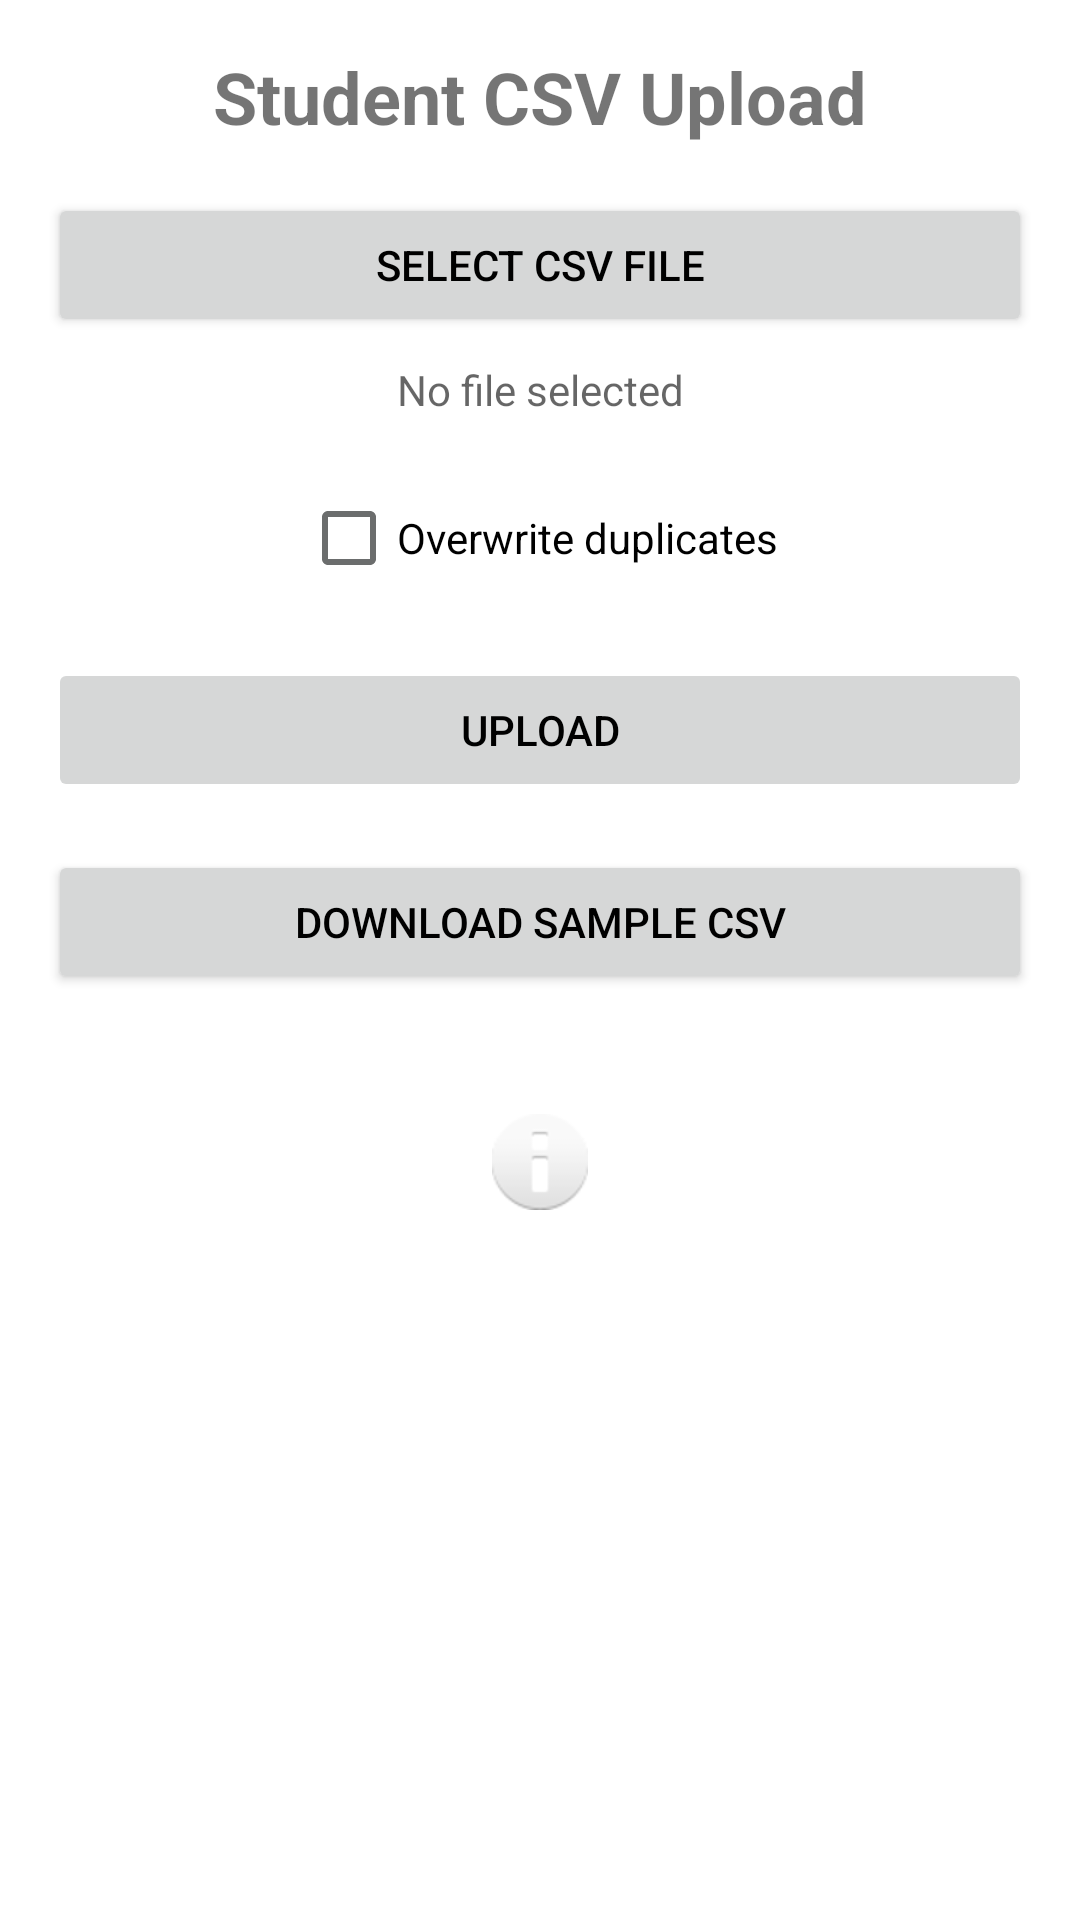

Icons on this 1080 x 1920 Android screen, each with the point to tap as [x,y]:
CSV Format Information: [540,1171]
